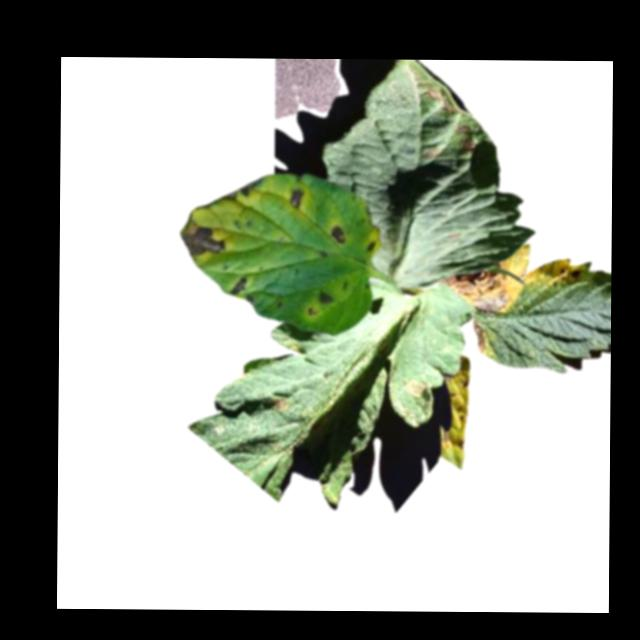Early_blight: (442, 259, 514, 313), (180, 214, 227, 258), (425, 83, 459, 114), (228, 270, 256, 303), (442, 425, 468, 453), (239, 173, 265, 198), (473, 317, 488, 355), (455, 123, 474, 151), (408, 376, 427, 397), (331, 223, 350, 244), (287, 188, 303, 208), (317, 288, 334, 303), (567, 266, 584, 280), (274, 394, 287, 410), (366, 238, 376, 252)
